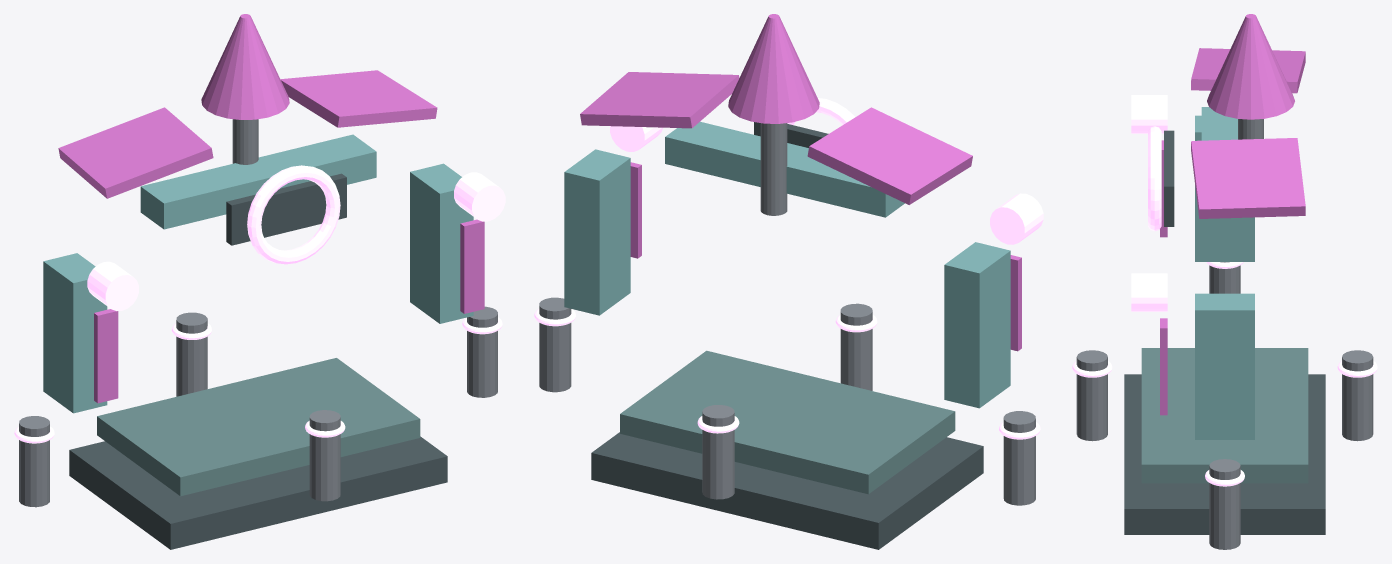
Rendered from asset.glb.
The picture shows the model from 3 angles, left to right: view 1: azimuth 30°, elevation 25°; view 2: azimuth 150°, elevation 25°; view 3: azimuth 270°, elevation 25°; orthographic projection. The views are drawn at different scales.
Parts seen in each view (by area): view 1: RaisedDeck, Foundation, CrossBeam, CanopyWing_-1, Pylon_-1, Pylon_1, CanopyWing_1, TopMarker, SignPanel, IdentityRing, Bollard_3, Bollard_2 (+7 smaller); view 2: RaisedDeck, Foundation, Pylon_1, Pylon_-1, CanopyWing_-1, CrossBeam, CanopyWing_1, TopMarker, Bollard_2, Bollard_1, Bollard_0, CenterMast (+6 smaller); view 3: RaisedDeck, Foundation, Pylon_1, CanopyWing_1, TopMarker, Bollard_1, Bollard_3, Bollard_0, CanopyWing_-1, Pylon_-1, CrossBeam, Lamp_1 (+6 smaller).
Part boxes in pixels (box(x1,y1,x2,y2)): RaisedDeck: box(97, 358, 420, 496); Foundation: box(69, 436, 447, 549); CrossBeam: box(140, 134, 376, 229); CanopyWing_-1: box(58, 107, 213, 198); Pylon_-1: box(43, 253, 107, 413); Pylon_1: box(410, 163, 473, 323); CanopyWing_1: box(280, 70, 437, 127); TopMarker: box(201, 14, 289, 119); SignPanel: box(226, 173, 346, 245); IdentityRing: box(247, 165, 340, 264); Bollard_3: box(309, 410, 340, 501); Bollard_2: box(19, 416, 49, 507); RaisedDeck: box(620, 350, 955, 494); Foundation: box(591, 432, 983, 549); Pylon_1: box(564, 149, 630, 315); Pylon_-1: box(944, 242, 1010, 408); CanopyWing_-1: box(807, 107, 972, 204); CrossBeam: box(665, 121, 904, 217); CanopyWing_1: box(580, 72, 739, 128); TopMarker: box(728, 14, 819, 123); Bollard_2: box(1003, 411, 1035, 505); Bollard_1: box(702, 405, 734, 499); Bollard_0: box(539, 297, 571, 392); CenterMast: box(760, 123, 787, 215); RaisedDeck: box(1141, 348, 1308, 483); Foundation: box(1124, 374, 1325, 534); Pylon_1: box(1195, 293, 1254, 439); CanopyWing_1: box(1191, 138, 1305, 218); TopMarker: box(1207, 14, 1294, 119); Bollard_1: box(1342, 350, 1373, 441); Bollard_3: box(1076, 350, 1107, 441); Bollard_0: box(1209, 459, 1240, 549); CanopyWing_-1: box(1191, 48, 1305, 93); Pylon_-1: box(1195, 115, 1254, 261); CrossBeam: box(1201, 107, 1248, 236); Lamp_1: box(1131, 273, 1167, 311).
Size of the model in its own units: 4.27 by 3.83 by 2.35.
